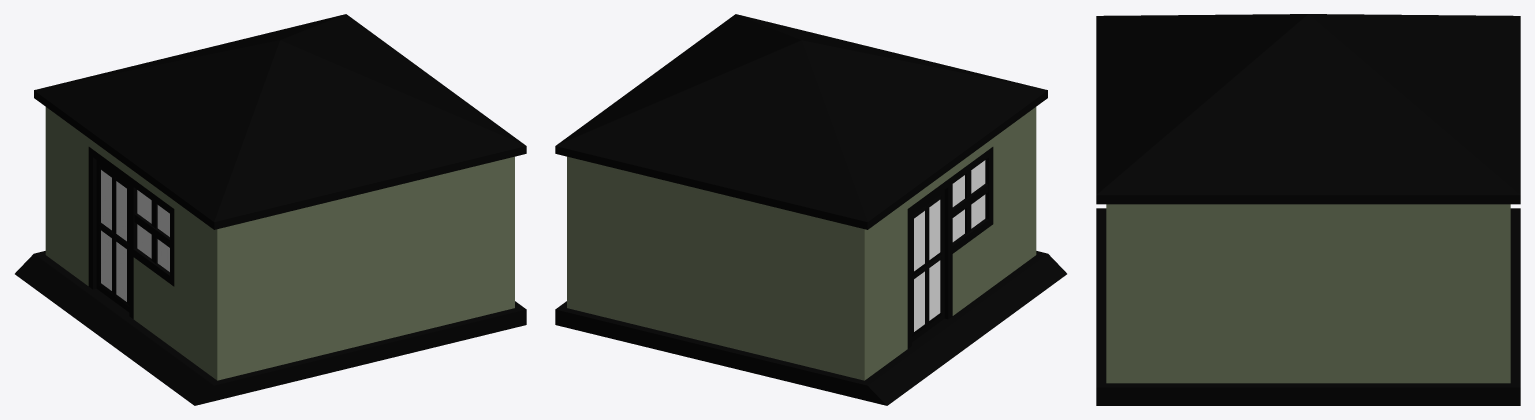
The model's file is Small Building 1.fbx.
The picture shows the model from 3 angles, left to right: view 1: azimuth 30°, elevation 25°; view 2: azimuth 150°, elevation 25°; view 3: azimuth 270°, elevation 25°; orthographic projection. The views are drawn at different scales.
Parts seen in each view (by area): view 1: building_001; view 2: building_001; view 3: building_001.
Part boxes in pixels (x1,y1,x2,y2): building_001: [15, 14, 526, 405]; building_001: [555, 14, 1066, 405]; building_001: [1096, 14, 1520, 405].
Bounding box in the file's own units: 446 × 330 × 420.
